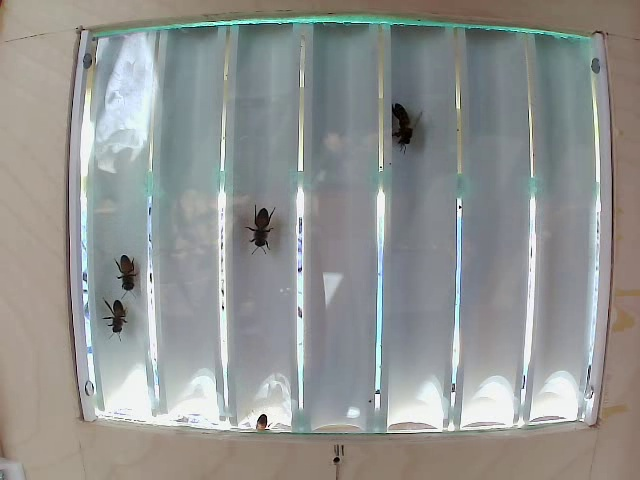bee: (238, 194, 299, 255), (88, 285, 140, 347), (380, 96, 428, 151), (110, 236, 146, 298)
